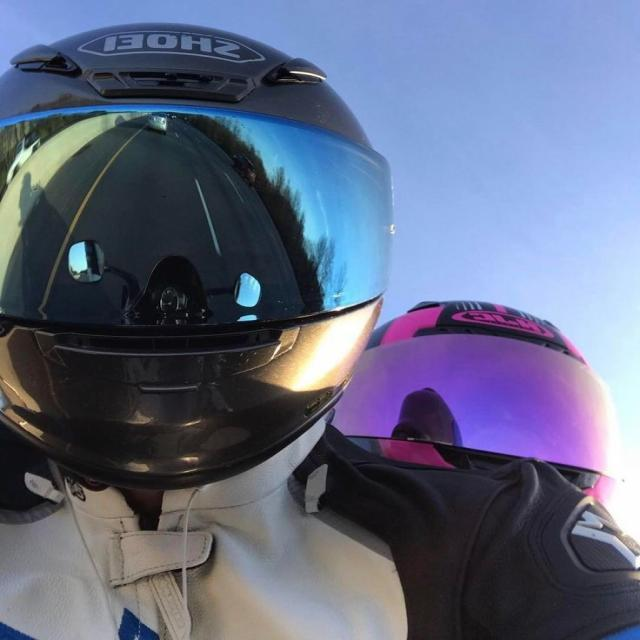Helmet: (0, 0, 404, 496), (290, 289, 620, 538)
